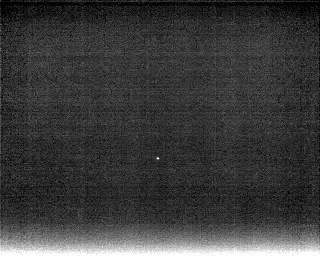BIRD: (154, 154, 162, 163)
